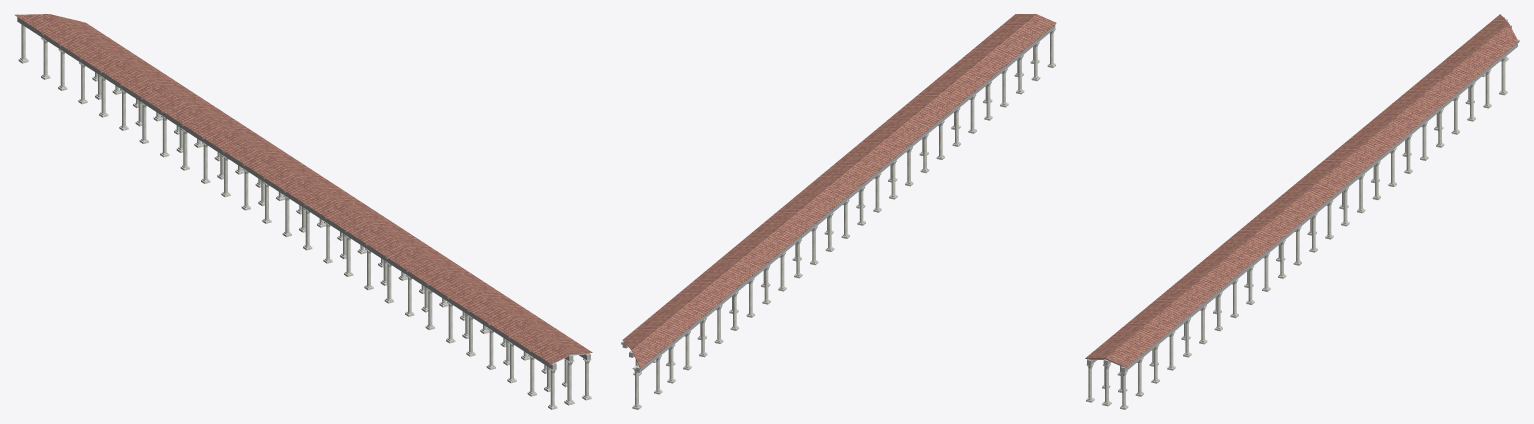
File: wood02.fbx
The picture shows the model from 3 angles, left to right: view 1: azimuth 30°, elevation 25°; view 2: azimuth 150°, elevation 25°; view 3: azimuth 330°, elevation 25°; orthographic projection. The views are drawn at different scales.
Visible parts, largest first — view 1: rooftiles, wood26_2; view 2: rooftiles, wood26_2; view 3: rooftiles, wood26_5.
Boxes of the visible parts, x1=… form: rooftiles: x1=15, y1=14, x2=592, y2=364; wood26_2: x1=17, y1=17, x2=556, y2=369; rooftiles: x1=622, y1=14, x2=1056, y2=368; wood26_2: x1=635, y1=25, x2=1055, y2=372; rooftiles: x1=1085, y1=14, x2=1518, y2=367; wood26_5: x1=1120, y1=43, x2=1517, y2=372.
Size of the model in its own units: 555 by 309 by 5387.
